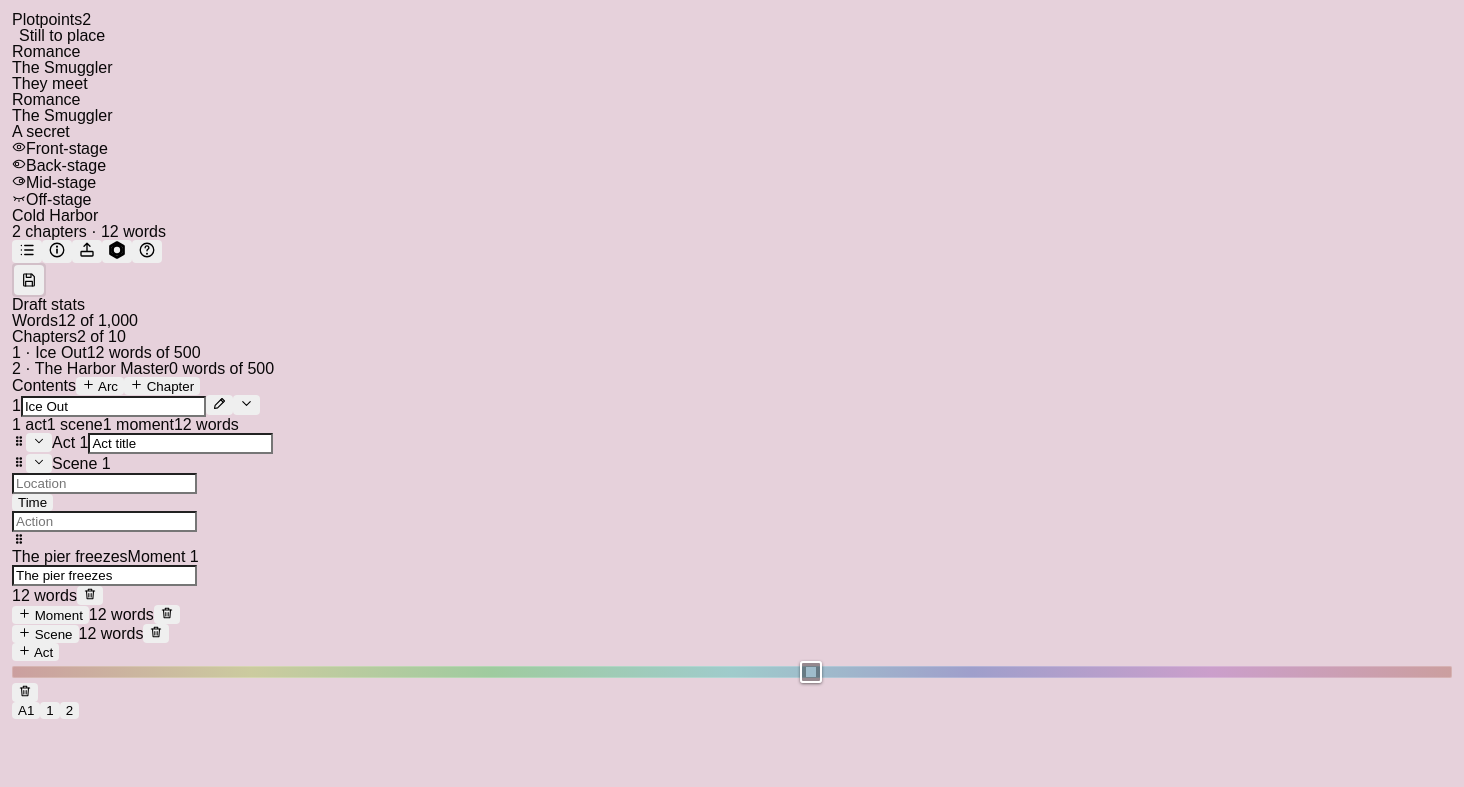
it: Outline Max: the contents › does the same for the + Chapter button in an arc while the arc is focused
Click the button named "Arc 1: Thaw" at (26, 710), box x1=12 y1=702 x2=40 y2=719
(page scrolled)
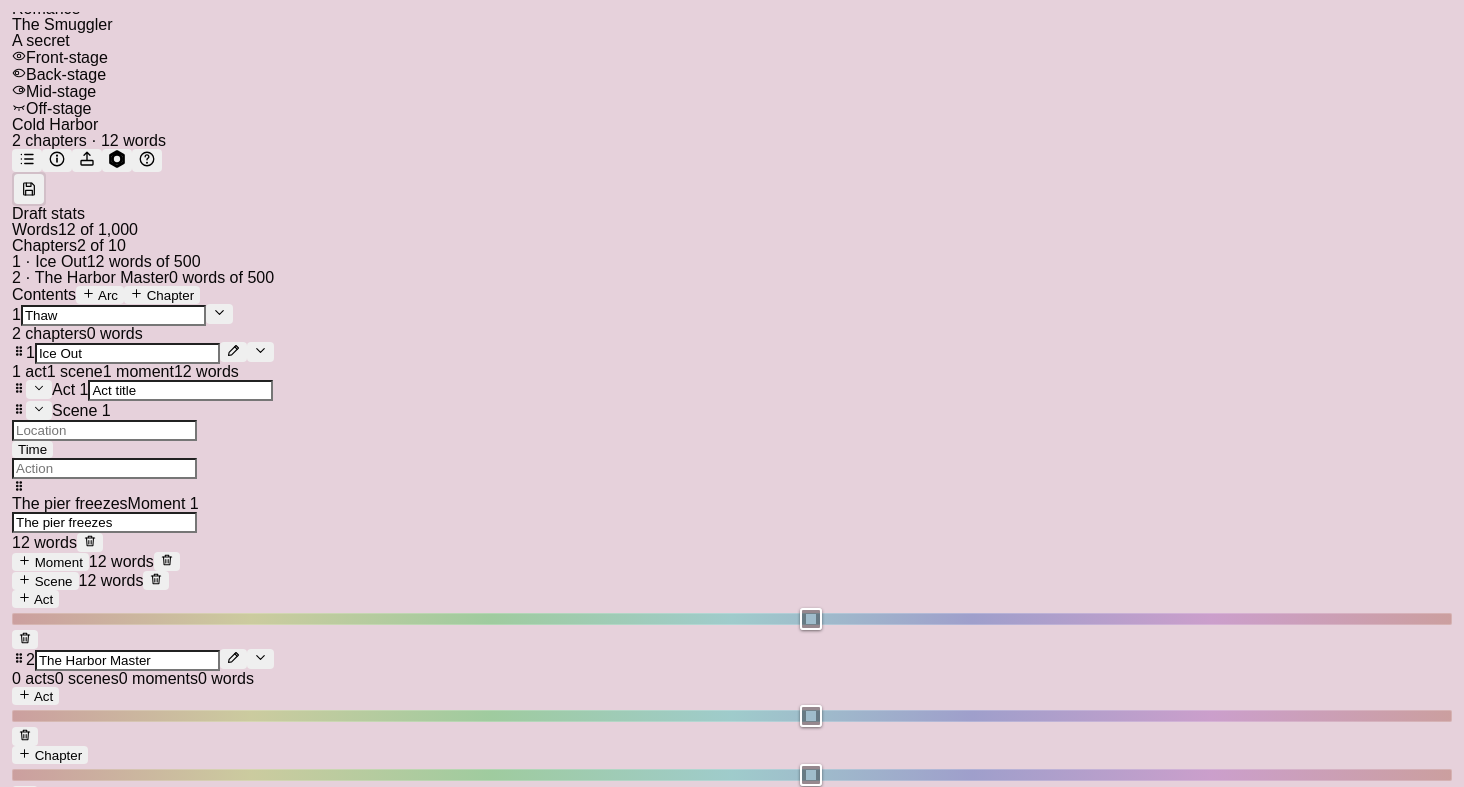
Click the button "Chapter" below "0 acts" at (50, 755), box x1=12 y1=746 x2=88 y2=764
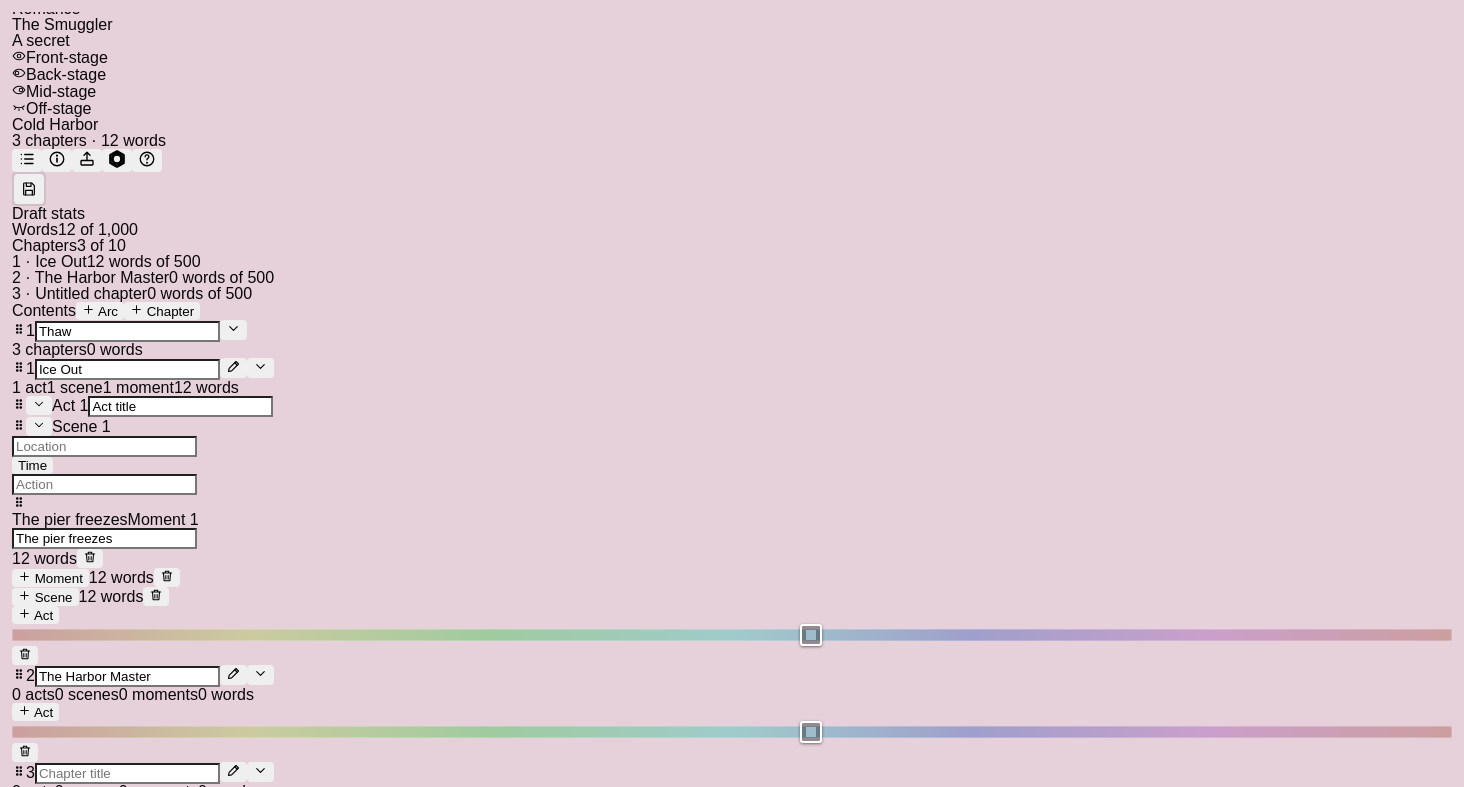
Expected: no the button "A1" are shown
